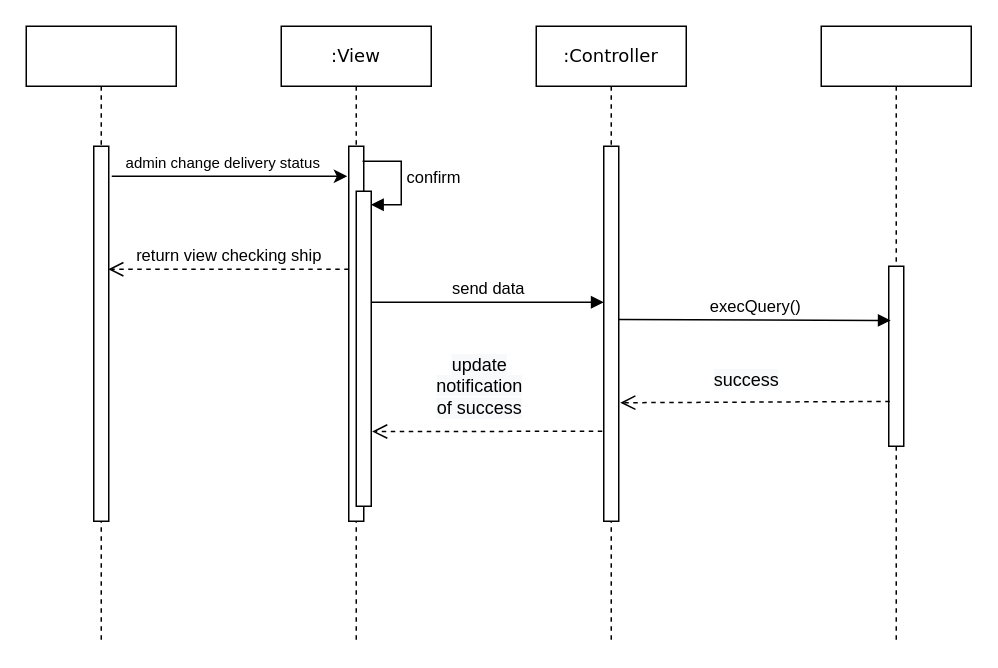
Image size: 998x668. Some labels were removed from this diagram. The box of each missing label's shape, as (x1, y1, x2, y2) in pixels:
:Admin: (25, 25, 176, 641)
:Model: (820, 25, 971, 641)
